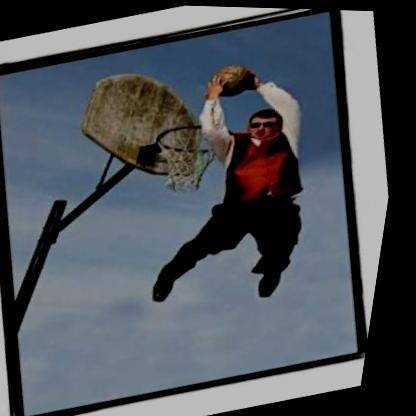basketball: (205, 56, 259, 104)
